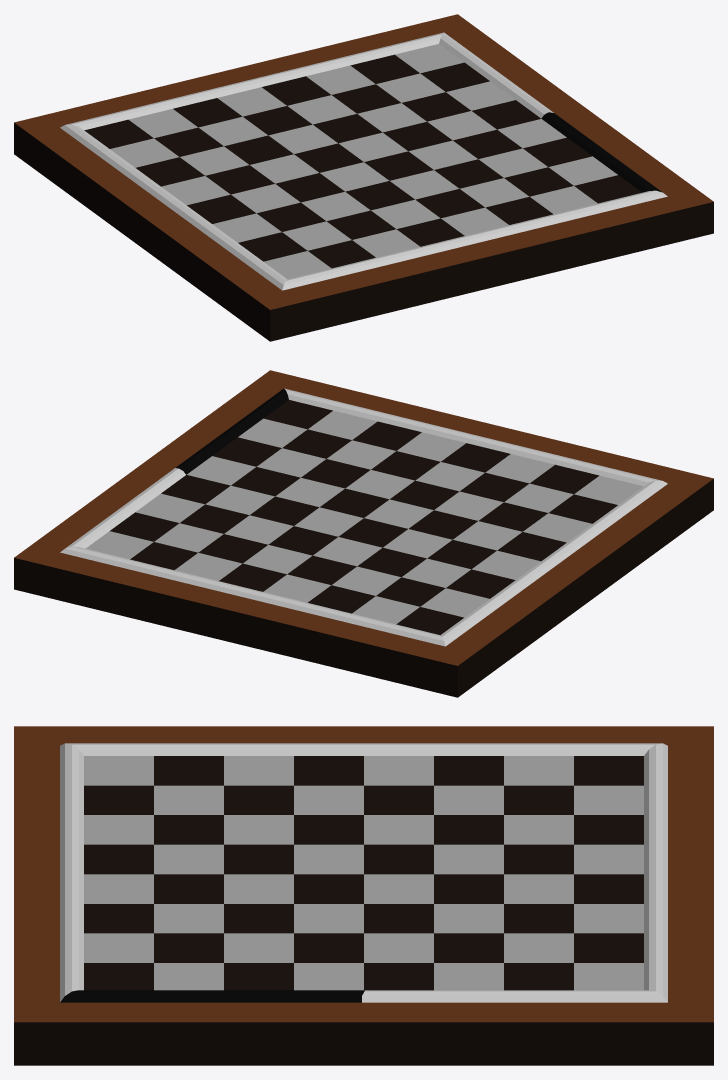
Rendered from board.obj.
3 renders of one model, top to bottom at view 1: azimuth 30°, elevation 25°; view 2: azimuth 150°, elevation 25°; view 3: azimuth 270°, elevation 25°, orthographic. The views are drawn at different scales.
Visible parts, largest first — view 1: board, Cylinder.001; view 2: board, Cylinder.001; view 3: board, Cylinder.001.
Part boxes in pixels (<box>): board: <box>14,14,713,341</box>; Cylinder.001: <box>60,32,667,290</box>; board: <box>14,370,713,697</box>; Cylinder.001: <box>60,388,667,646</box>; board: <box>14,726,713,1065</box>; Cylinder.001: <box>60,743,667,1002</box>.
Bounding box in the file's own units: 26.81 × 2.1 × 26.81.
